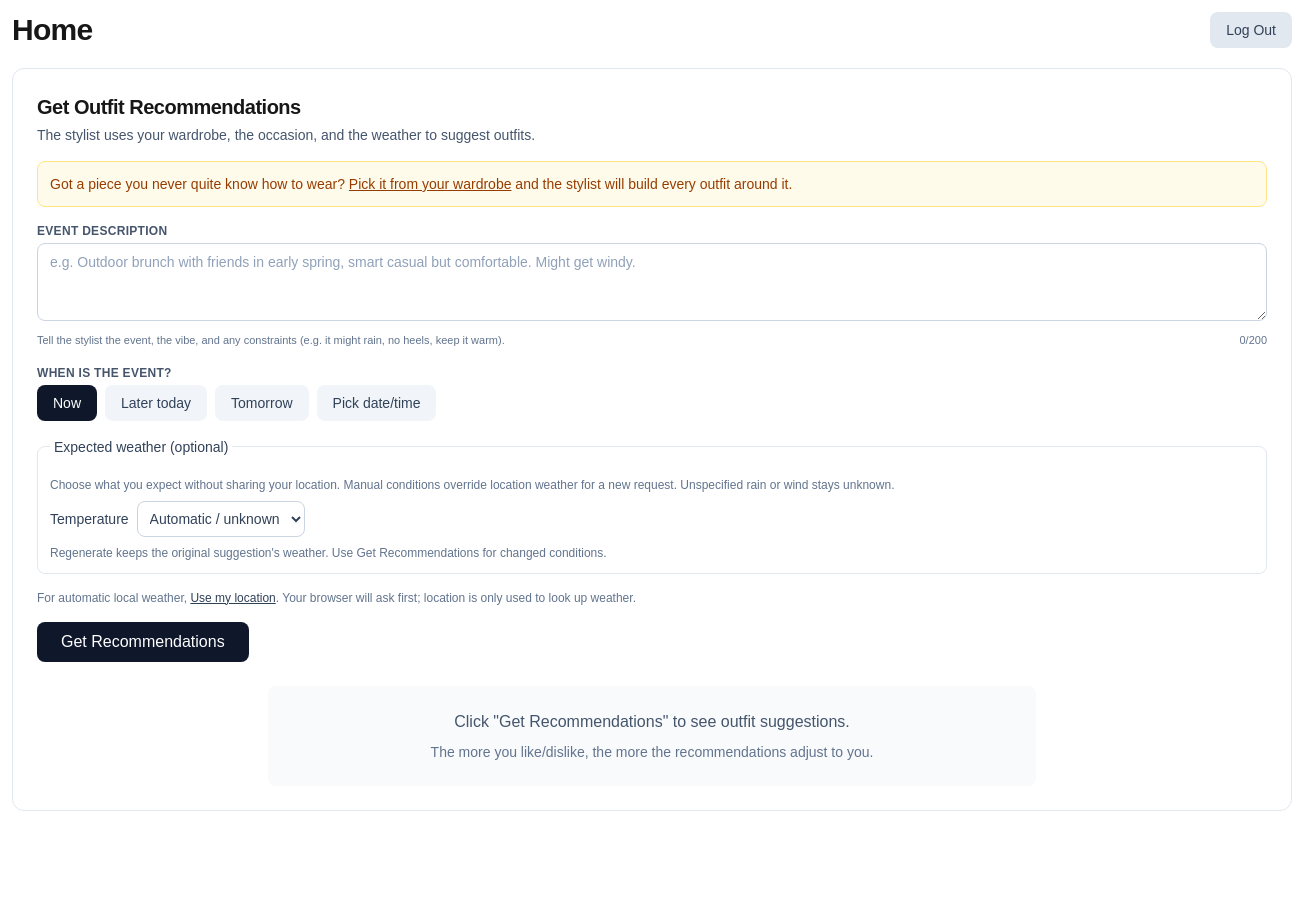
Scenario: dashboard — location is primed, not sprung (#5) › degrades gracefully on denial — says what is lost and how to compensate, no dead end
Click the button "Use my location".
click(233, 598)  # box [190, 590, 276, 606]
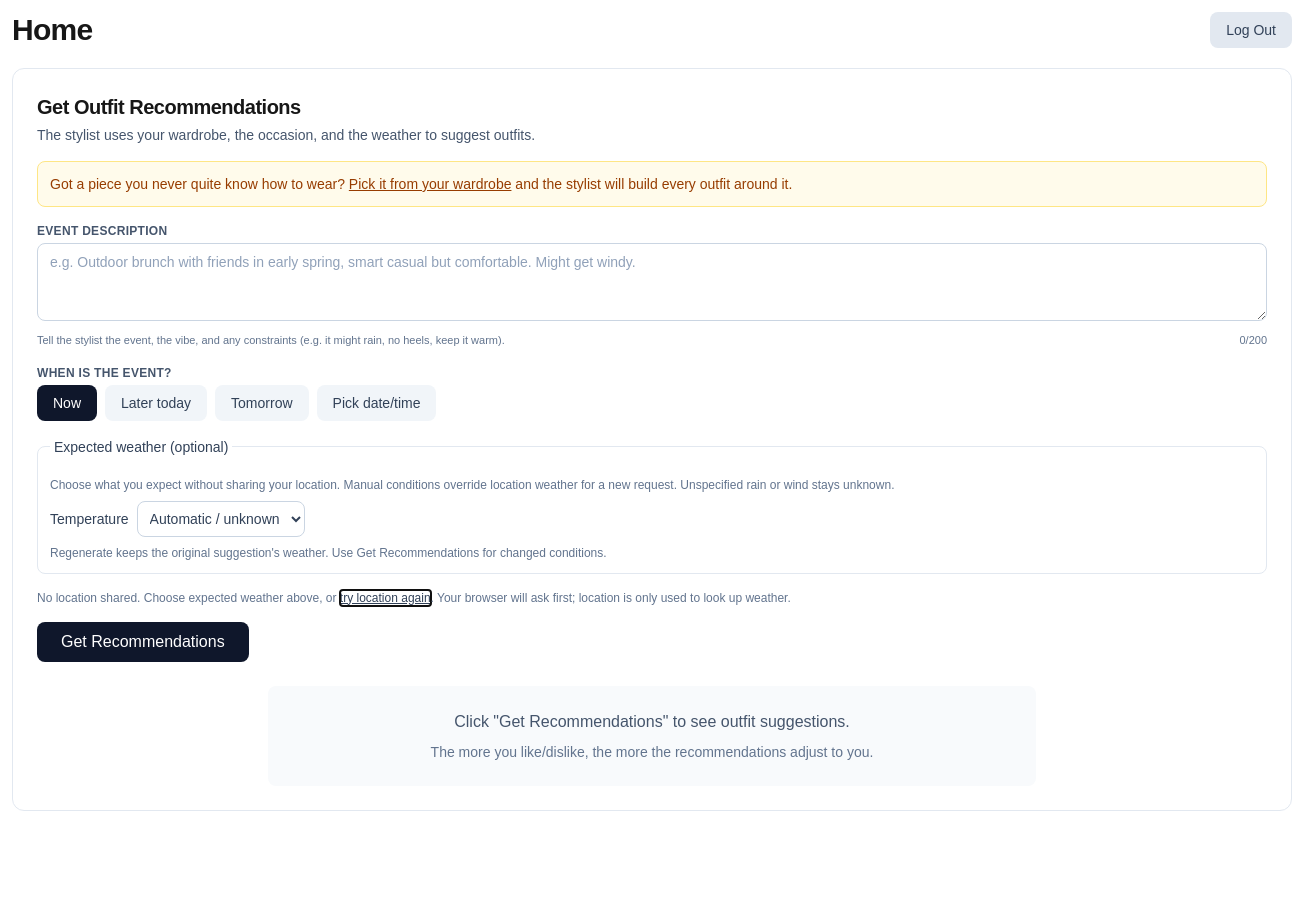
Expected: the button "Get Recommendations" is enabled, [37, 622, 249, 662]
Expected: the text "No location shared. Choose expected weather above" is shown, [37, 590, 340, 604]
Expected: the button "try location again" is shown, [340, 590, 431, 606]
